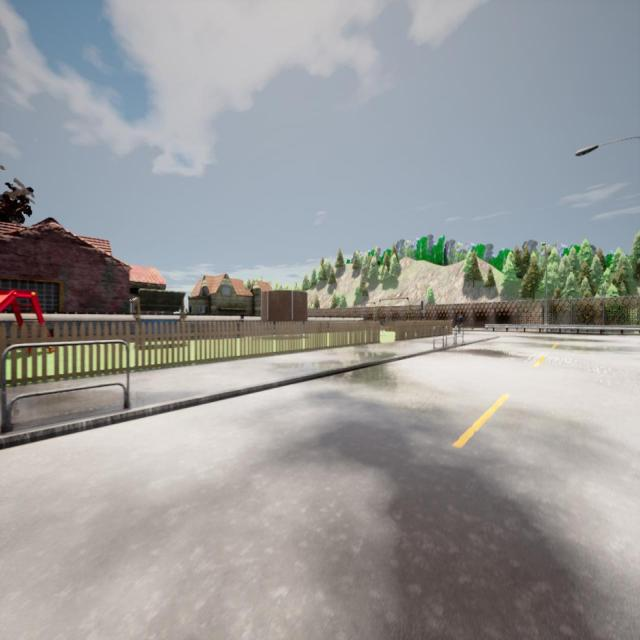Pedestrian: (456, 311, 463, 334)
traffic_light: (421, 301, 424, 310)
